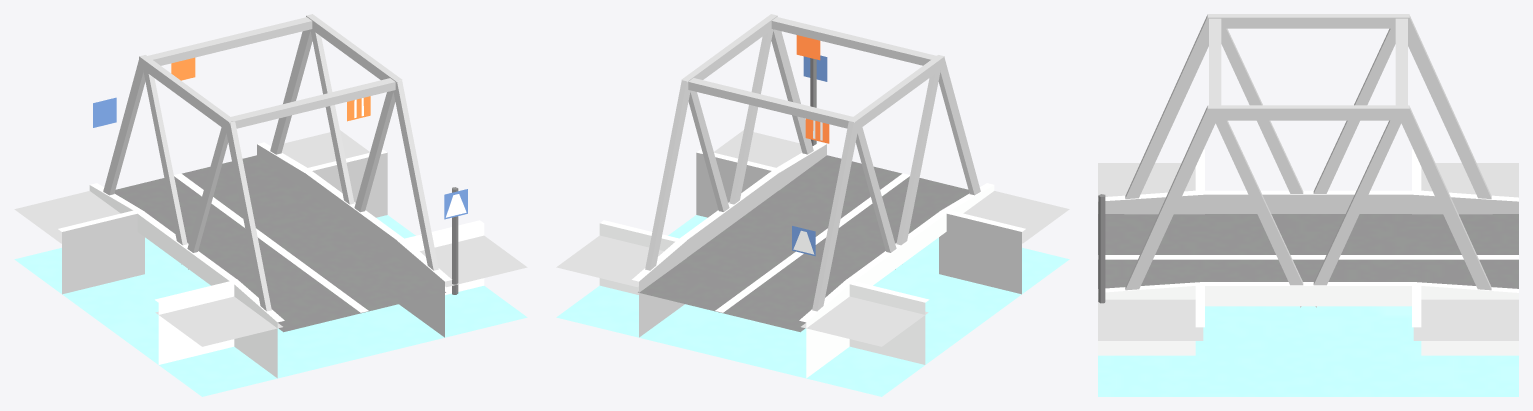
The model's file is road_tile_bridge_1x1_3.glb.
The picture shows the model from 3 angles, left to right: view 1: azimuth 30°, elevation 25°; view 2: azimuth 150°, elevation 25°; view 3: azimuth 270°, elevation 25°; orthographic projection. The views are drawn at different scales.
Visible parts, largest first — view 1: road_tile_bridge_1x1_3(Clone); view 2: road_tile_bridge_1x1_3(Clone); view 3: road_tile_bridge_1x1_3(Clone).
Boxes of the visible parts, x1,y1,x2,y2 form: road_tile_bridge_1x1_3(Clone): (14, 14, 527, 396); road_tile_bridge_1x1_3(Clone): (556, 14, 1069, 396); road_tile_bridge_1x1_3(Clone): (1098, 14, 1518, 396).
Bounding box in the file's own units: 8 × 5.17 × 8.
1 material, 1 textured.
